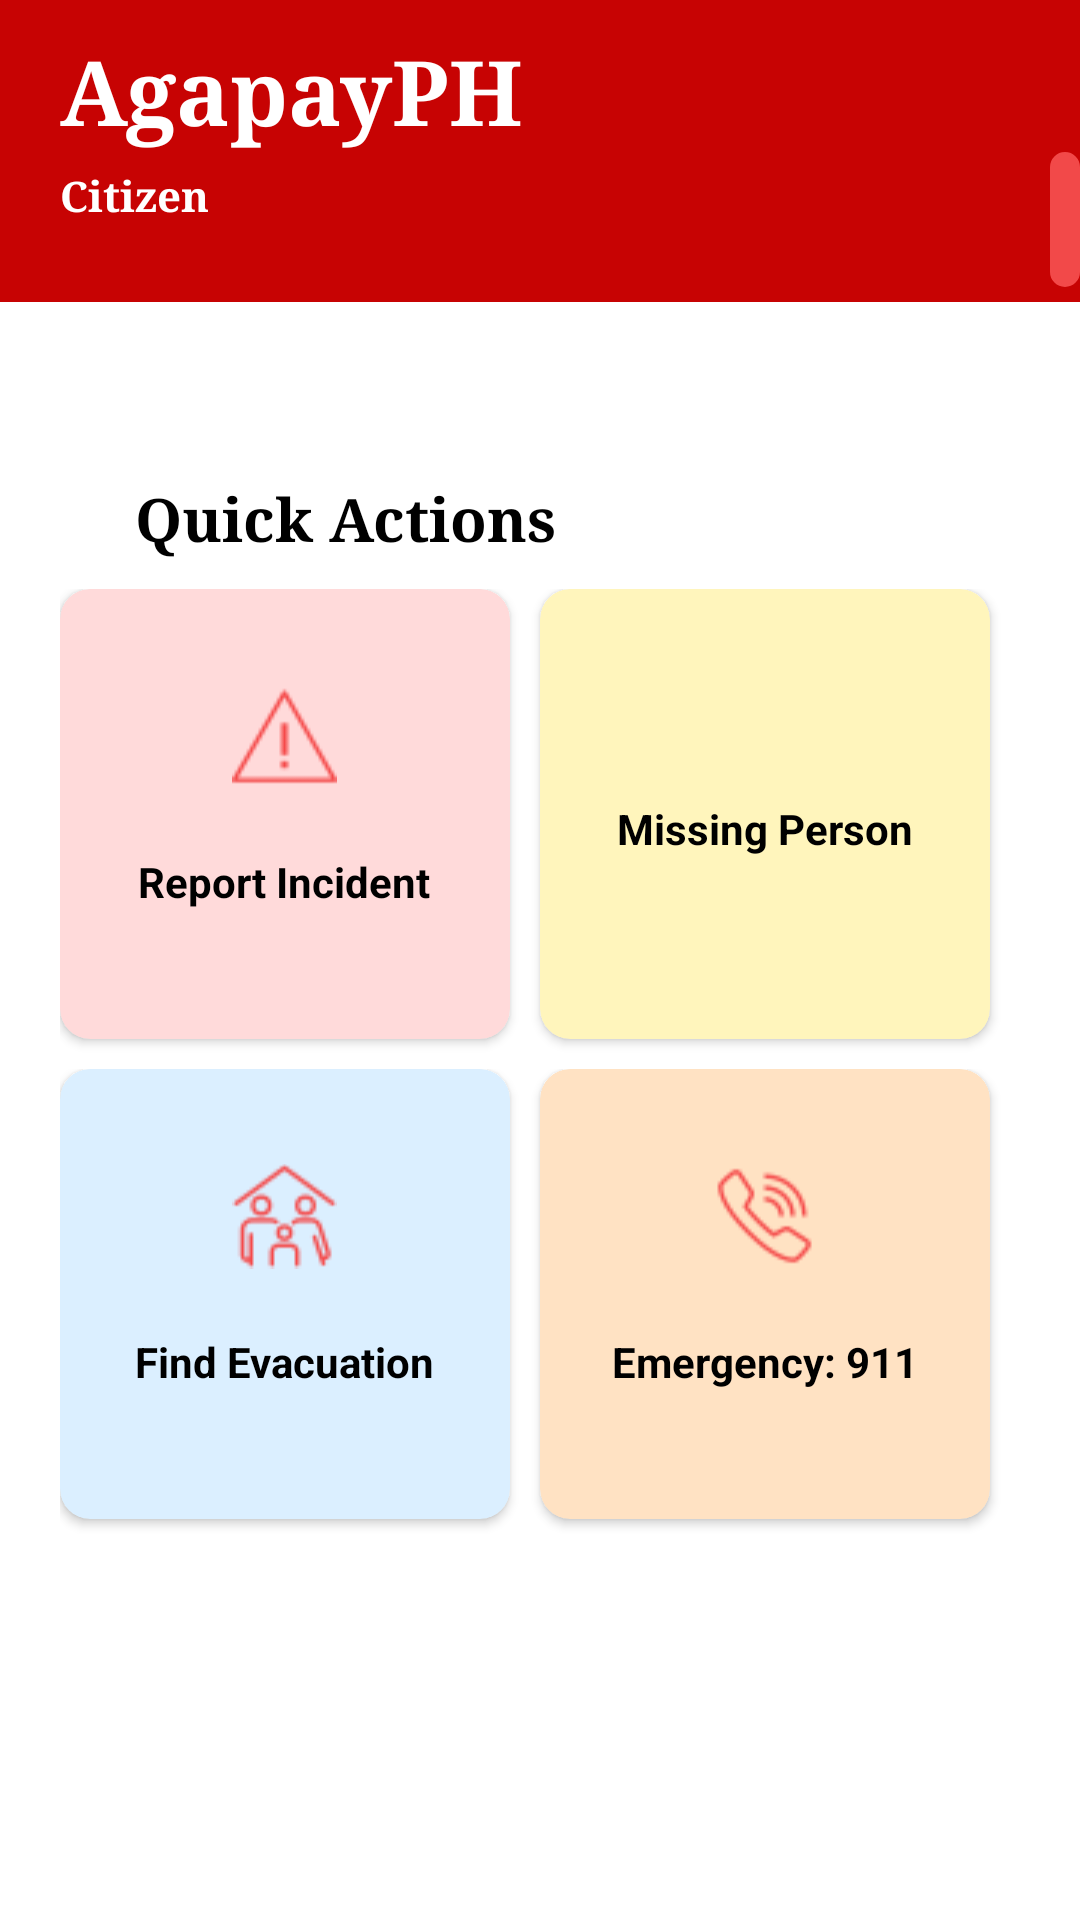

Named icons in this screenshot (1080w x 1920h) and their bounding boxes, detection(x1, y1, x2, y2):
phone: detection(717, 1169, 812, 1263)
